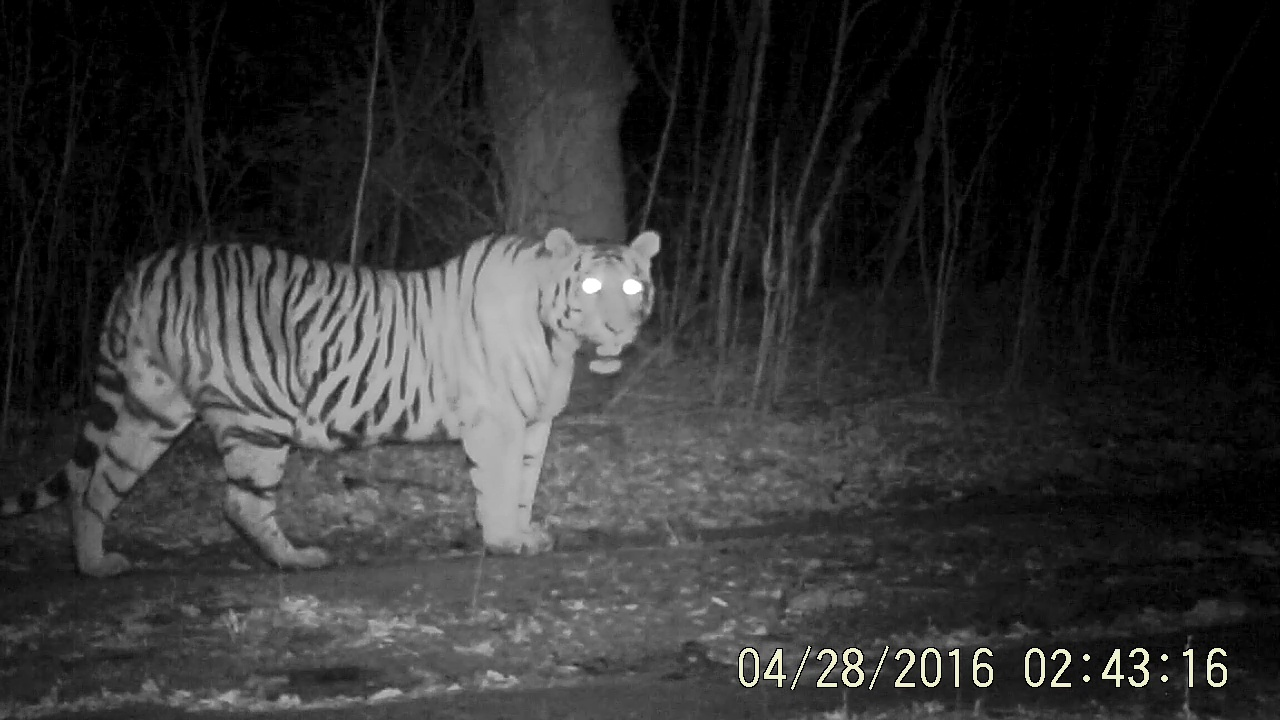Tiger: (11, 69, 704, 630)
